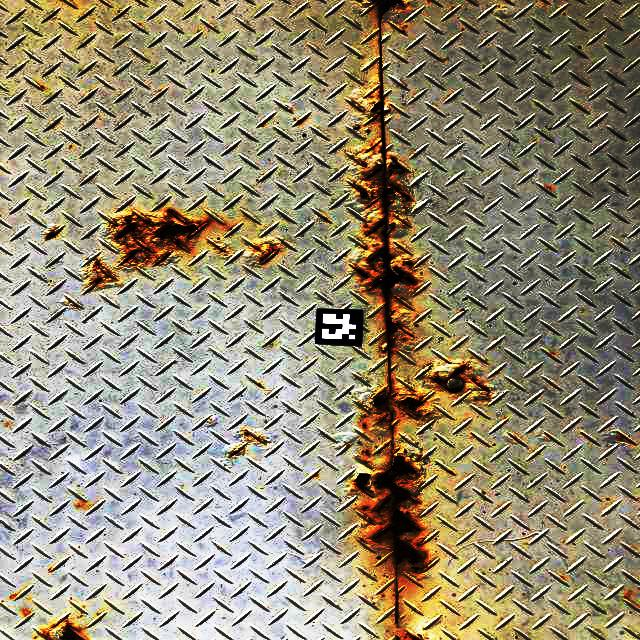Corrosion: (355, 127, 417, 358), (354, 456, 428, 574), (108, 209, 210, 269), (372, 386, 433, 420), (431, 364, 491, 394), (86, 259, 119, 290), (86, 258, 118, 289), (39, 618, 80, 640), (368, 0, 407, 19), (252, 242, 280, 265), (371, 85, 384, 120), (59, 626, 83, 640), (615, 430, 635, 444), (377, 413, 393, 430), (397, 632, 423, 640), (45, 229, 58, 240), (228, 449, 239, 457), (362, 450, 371, 458), (296, 119, 307, 125), (215, 247, 225, 252), (244, 431, 251, 436), (321, 217, 329, 221), (447, 471, 454, 474), (362, 423, 367, 427), (402, 30, 407, 33)
